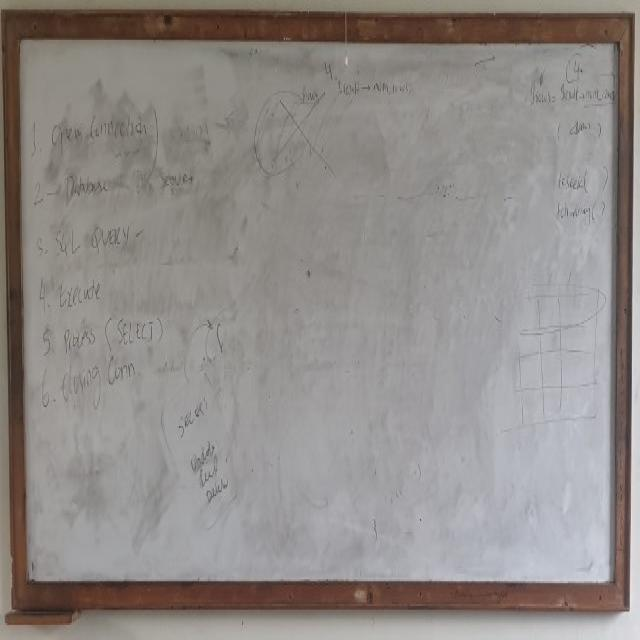White-board: (12, 21, 625, 595)
